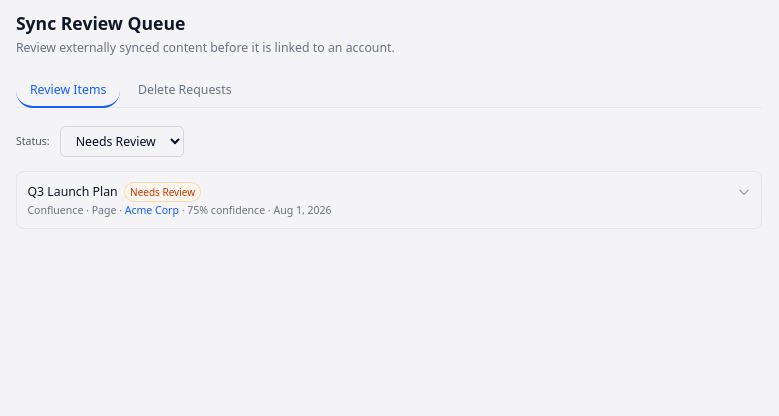
SyncReviewPage › expands an item row and shows Accept/Reject buttons
Click the text "Q3 Launch Plan".
click(73, 192)  # box top-left (27, 183), bottom-right (118, 201)
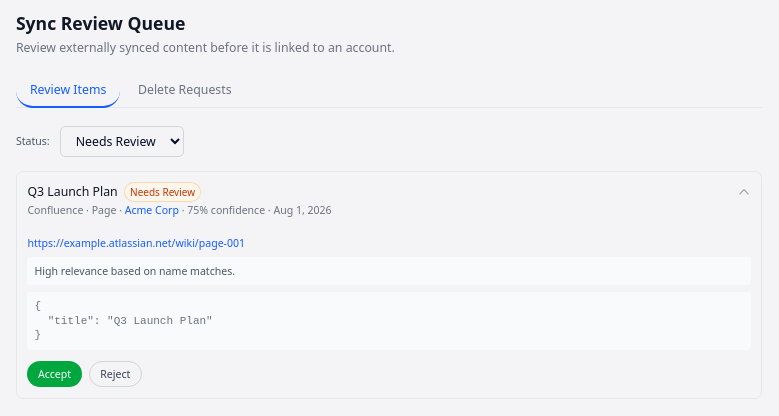
Result: the button "Accept" is shown at top-left (27, 361), bottom-right (82, 387)
Result: the button "Reject" is shown at top-left (89, 361), bottom-right (142, 387)
